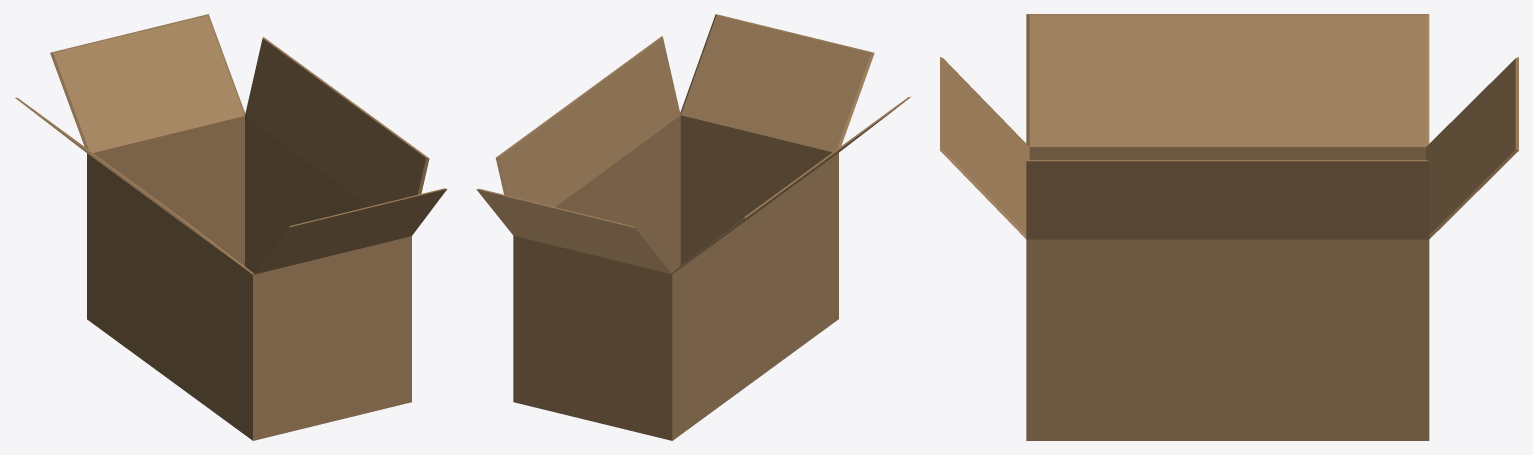
File: BoxLargeOpen.fbx
The picture shows the model from 3 angles, left to right: view 1: azimuth 30°, elevation 25°; view 2: azimuth 150°, elevation 25°; view 3: azimuth 270°, elevation 25°; orthographic projection. The views are drawn at different scales.
Visible parts, largest first — view 1: BoxLargeOpen; view 2: BoxLargeOpen; view 3: BoxLargeOpen.
Boxes of the visible parts, bbox=[...] form: BoxLargeOpen: bbox=[15, 14, 446, 440]; BoxLargeOpen: bbox=[476, 14, 911, 440]; BoxLargeOpen: bbox=[940, 14, 1518, 440].
Size of the model in its own units: 314 by 288 by 521.
